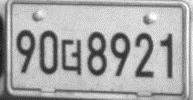0: (38, 28, 58, 75)
1: (159, 33, 175, 80)
2: (134, 31, 154, 79)
8: (86, 31, 107, 76)
9: (110, 31, 131, 76), (16, 30, 36, 74)
더: (60, 37, 82, 75)
